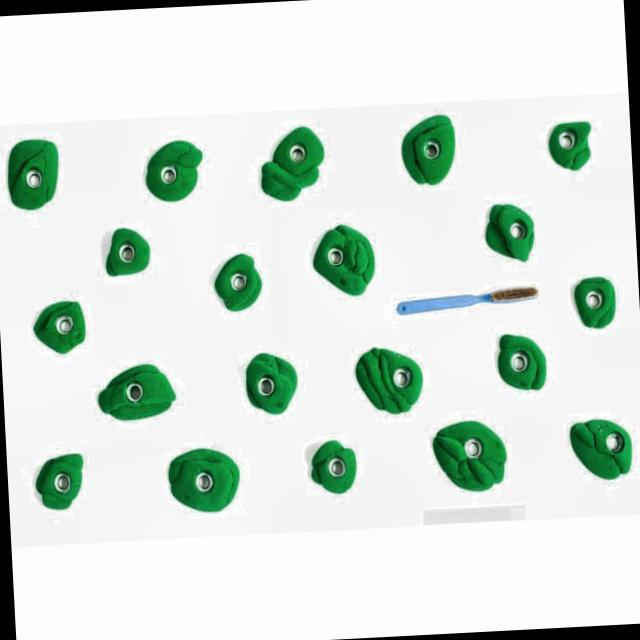Hold: (432, 415, 514, 494), (256, 122, 326, 204), (310, 220, 378, 304), (355, 342, 424, 419), (167, 448, 245, 516), (91, 362, 180, 420), (566, 414, 636, 484), (399, 108, 457, 190), (6, 138, 64, 212), (143, 140, 208, 202), (28, 293, 88, 354), (244, 350, 300, 414), (211, 248, 267, 312), (493, 330, 548, 394), (486, 198, 537, 267), (35, 448, 90, 511), (307, 440, 356, 492), (570, 275, 618, 327), (547, 118, 593, 172), (107, 228, 153, 276)
